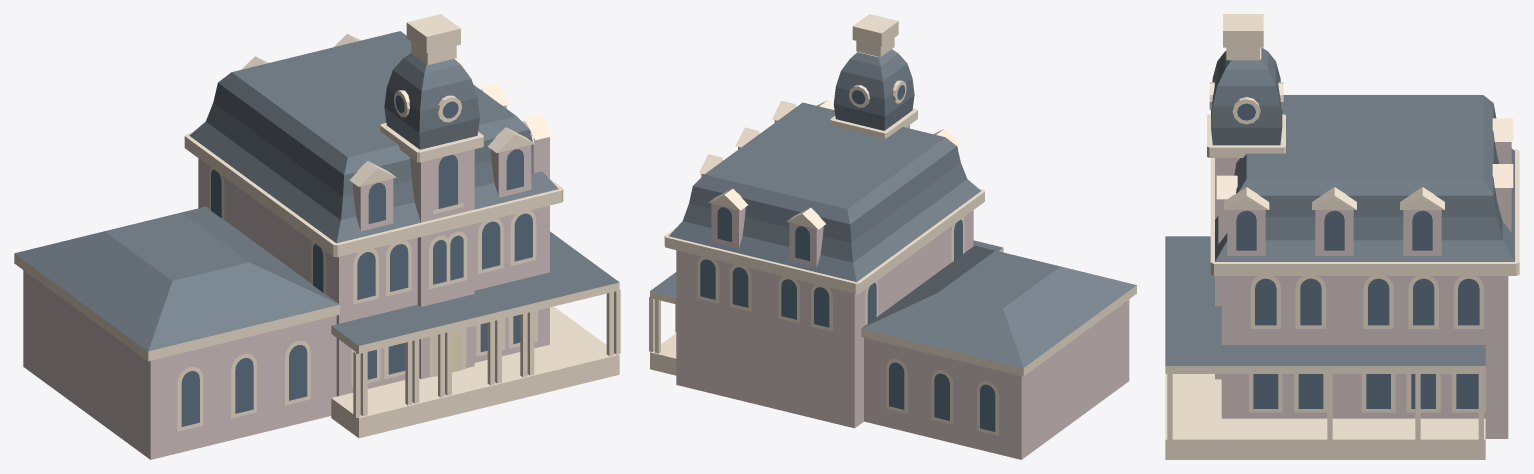
File: ral-heck-andrews-house.glb
3 views of the same model, side by side, from view 1: azimuth 30°, elevation 25°; view 2: azimuth 150°, elevation 25°; view 3: azimuth 270°, elevation 25° (orthographic). The views are drawn at different scales.
Visible parts, largest first — view 1: Heck-Andrews House; view 2: Heck-Andrews House; view 3: Heck-Andrews House.
Part boxes in pixels (box(x1,y1,x2,y2)): Heck-Andrews House: box(14, 14, 620, 459); Heck-Andrews House: box(649, 14, 1136, 459); Heck-Andrews House: box(1165, 14, 1519, 459).
Size of the model in its own units: 23.3 by 17.8 by 15.7.
